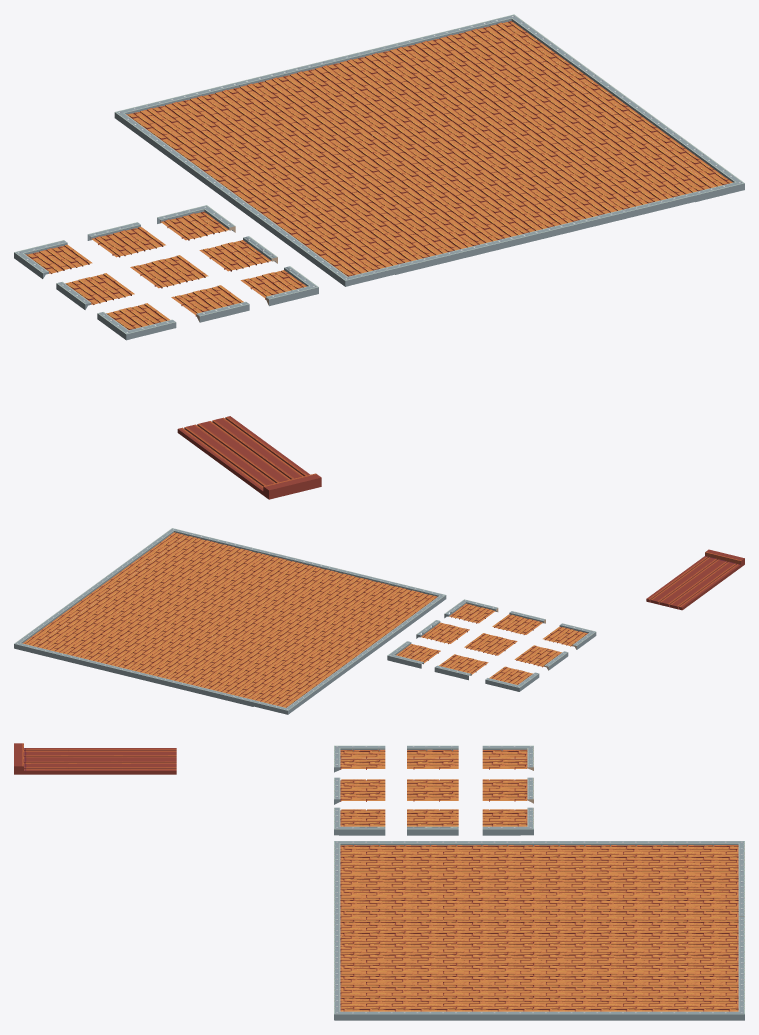
The model's file is Gimjam2025 1.fbx.
3 views of the same model, one above another, from view 1: azimuth 30°, elevation 25°; view 2: azimuth 150°, elevation 25°; view 3: azimuth 270°, elevation 25° (orthographic). The views are drawn at different scales.
Visible parts, largest first — view 1: Bawahan1.001, KiriAtas, KiriBawah, Bawahan1, Bawahan1.002, KananAtas, Kiri.005, Kiri.004, Kiri, Kiri.001, Kiri.002, Kiri.003 (+55 smaller); view 2: Bawahan1.001, Bawahan1.002, KananAtas, KananBawah, Bawahan1, Kanan.001, Kanan.004, Kanan, Kanan.003, Kanan.002, Kanan.005, KiriAtas (+55 smaller); view 3: Bawahan1.001, Bawahan1, Bawahan1.002, KiriBawah, KananBawah, Bawah.003, Bawah.005, Bawah, Bawah.002, Bawah.001, Bawah.004, Atas (+55 smaller).
Part boxes in pixels (left/top/right/bottom): Bawahan1.001: left=238, top=460, right=321, bottom=499; KiriAtas: left=316, top=249, right=395, bottom=286; KiriBawah: left=666, top=162, right=744, bottom=202; Bawahan1: left=208, top=438, right=290, bottom=477; Bawahan1.002: left=177, top=416, right=260, bottom=454; KananAtas: left=114, top=100, right=192, bottom=138; Kiri.005: left=367, top=237, right=445, bottom=274; Kiri.004: left=417, top=225, right=495, bottom=262; Kiri: left=616, top=176, right=694, bottom=213; Kiri.001: left=566, top=188, right=644, bottom=226; Kiri.002: left=466, top=213, right=544, bottom=250; Kiri.003: left=516, top=201, right=594, bottom=238; Bawahan1.001: left=688, top=549, right=744, bottom=579; Bawahan1.002: left=646, top=583, right=703, bottom=610; KananAtas: left=253, top=689, right=307, bottom=714; KananBawah: left=14, top=629, right=67, bottom=656; Bawahan1: left=667, top=568, right=723, bottom=594; Kanan.001: left=82, top=647, right=135, bottom=673; Kanan.004: left=185, top=672, right=238, bottom=698; Kanan: left=48, top=639, right=101, bottom=665; Kanan.003: left=116, top=656, right=170, bottom=681; Kanan.002: left=151, top=664, right=204, bottom=690; Kanan.005: left=219, top=681, right=272, bottom=706; KiriAtas: left=392, top=586, right=446, bottom=613; Bawahan1.001: left=14, top=743, right=68, bottom=774; Bawahan1: left=68, top=748, right=122, bottom=774; Bawahan1.002: left=122, top=748, right=176, bottom=774; KiriBawah: left=334, top=992, right=385, bottom=1020; KananBawah: left=693, top=992, right=744, bottom=1020; Bawah.003: left=642, top=994, right=693, bottom=1020; Bawah.005: left=539, top=994, right=590, bottom=1020; Bawah: left=385, top=994, right=436, bottom=1020; Bawah.002: left=488, top=994, right=539, bottom=1020; Bawah.001: left=436, top=994, right=487, bottom=1020; Bawah.004: left=591, top=994, right=642, bottom=1020; Atas: left=385, top=841, right=436, bottom=865.
Bounding box in the file's own units: 1244 × 45.38 × 1349.
12 materials, 12 textured.
